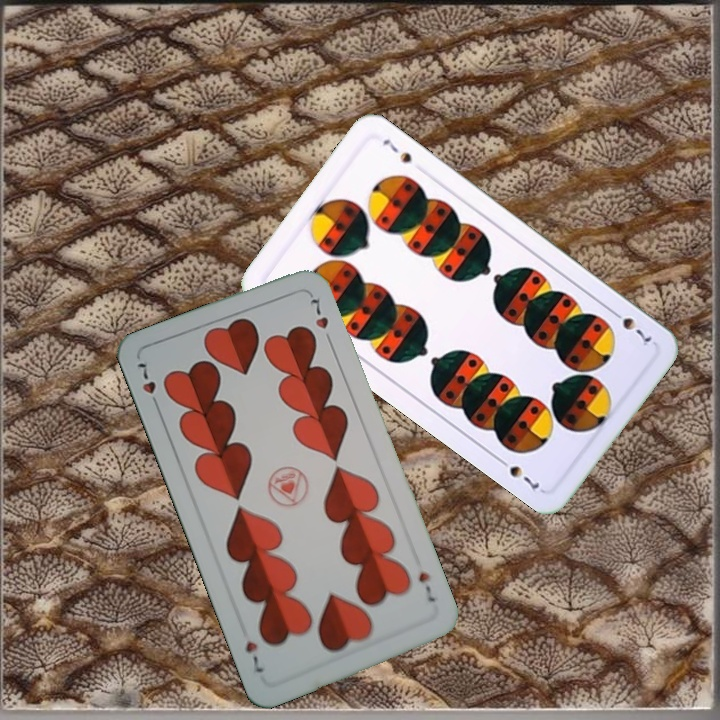H7: (133, 356, 163, 413), (414, 568, 438, 605)
S7: (606, 305, 655, 349)
